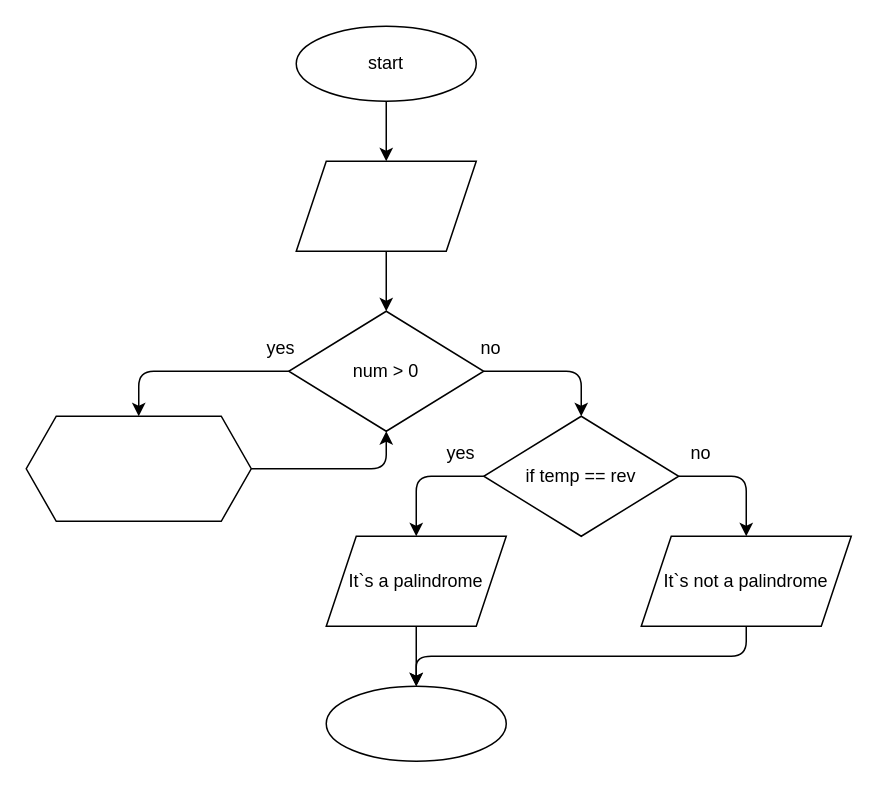
The diagram is 878 pixels wide and 788 high, and some of its shapes have lost their labels. The centre of each missing label's shape, as x and y in pixels:
end: (x=415, y=723)
num temp = num rev = 0 div = 0: (x=385, y=205)
while div = num % 10 rev = rev * 10 + div num = num/ 10: (x=138, y=468)
